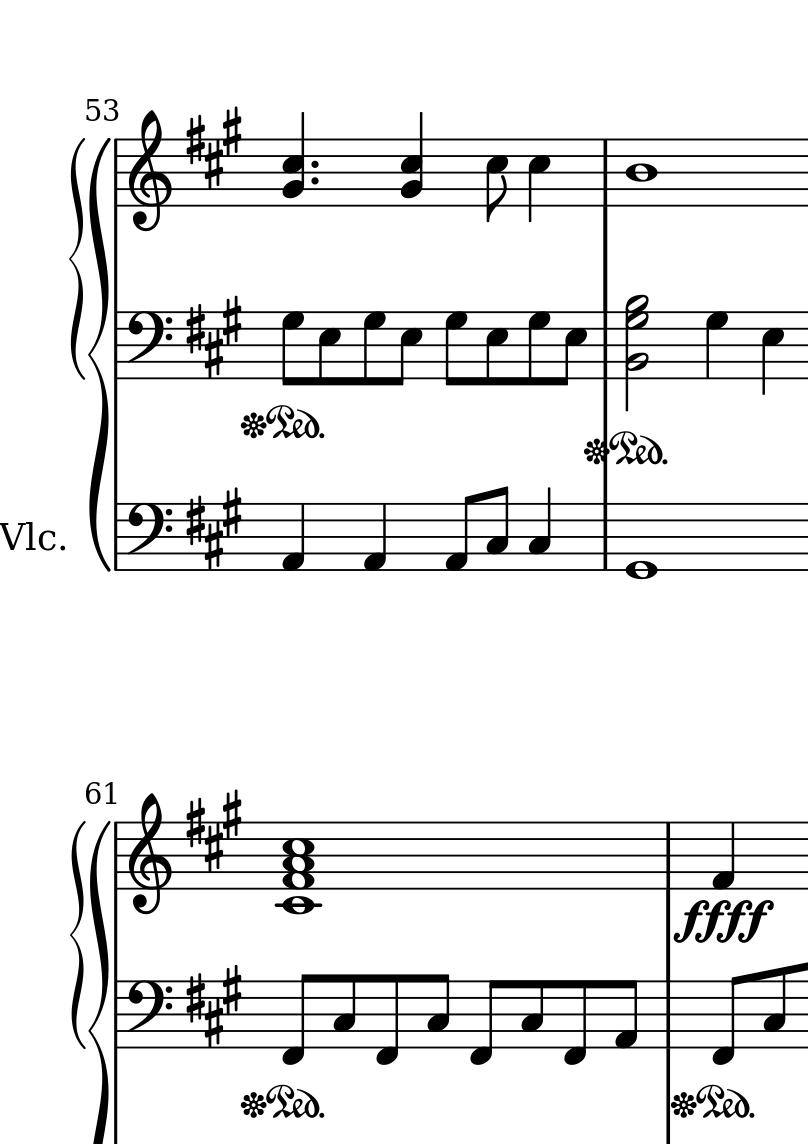1: (104, 778, 118, 807)
1_-1: (625, 499, 659, 584)
1_3: (625, 137, 659, 208)
1_4th: (278, 818, 318, 920)
2_th: (622, 292, 650, 414)
3: (102, 95, 121, 124)
4_1: (361, 501, 389, 573), (279, 502, 307, 573), (710, 820, 737, 892)
4_2_5: (282, 110, 306, 207), (400, 108, 424, 205)
4_3: (528, 486, 553, 572)
4_5: (760, 309, 786, 399), (527, 136, 552, 226)
4_7: (704, 309, 731, 383)
5: (83, 96, 103, 123)
6: (85, 779, 102, 808)
8_-1: (278, 972, 316, 1068), (709, 973, 746, 1068), (467, 978, 503, 1068), (374, 973, 402, 1069), (561, 978, 590, 1069)
8_1: (443, 493, 478, 572), (613, 978, 640, 1051)
8_3: (485, 485, 510, 572), (762, 966, 787, 1050), (331, 973, 358, 1050), (425, 972, 451, 1050), (519, 979, 546, 1050)
8_5: (393, 311, 425, 388), (557, 311, 589, 387), (485, 137, 510, 224), (484, 310, 510, 388), (317, 311, 342, 388)
8_7: (280, 310, 306, 388), (526, 310, 552, 387), (361, 310, 387, 386), (444, 311, 469, 387)
A_S: (183, 966, 245, 1050), (184, 292, 243, 379), (185, 102, 244, 186), (186, 789, 246, 871), (184, 488, 243, 571)
Brace: (65, 137, 87, 381), (67, 822, 89, 1046)
Bracke: (88, 134, 112, 571)
Fclef: (125, 501, 174, 573), (126, 309, 174, 380), (127, 978, 174, 1050)
Gclef: (128, 108, 175, 234), (128, 790, 174, 917)
Single_barline: (596, 139, 616, 207), (597, 312, 616, 382), (597, 504, 615, 569), (660, 981, 677, 1049), (660, 824, 677, 890), (110, 822, 126, 892), (110, 139, 126, 208), (110, 981, 126, 1049), (110, 312, 125, 380), (111, 504, 125, 571)
Vlc: (1, 518, 56, 559)
dot: (309, 158, 322, 170), (309, 175, 322, 187)
ffff: (674, 896, 781, 947)
